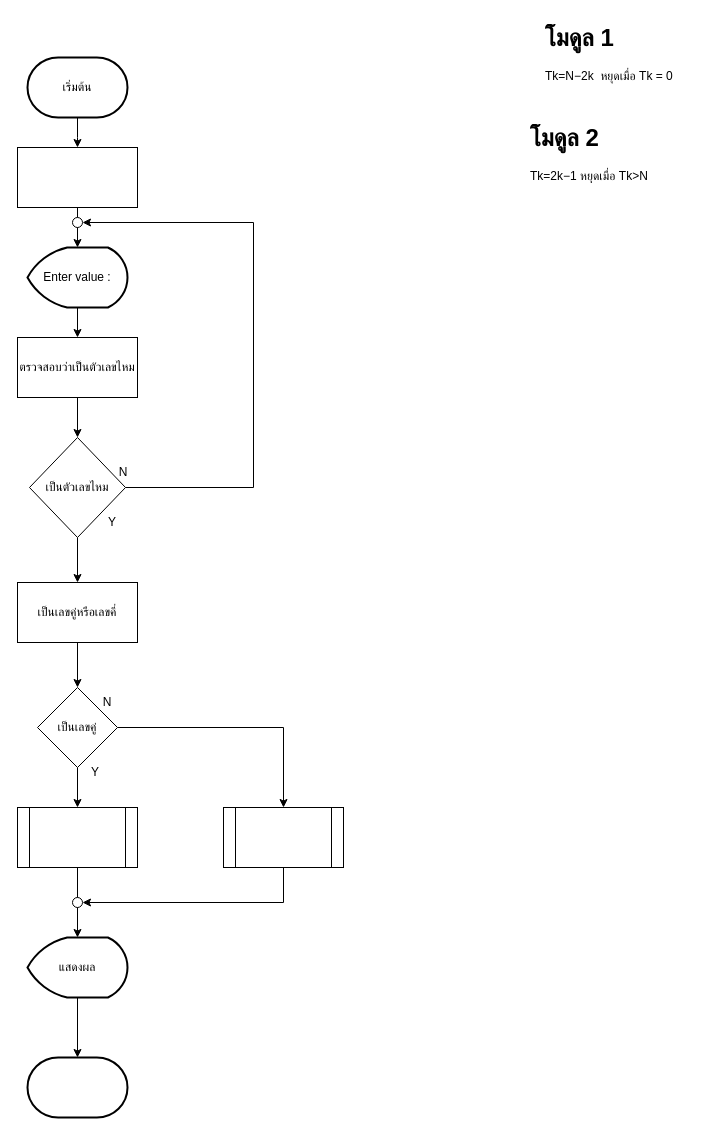
Some shapes in this 726 by 1135 pixel diagram are drawn without their labels. The shapes that lost their labels are listed below. From the top down, each one's centre as x and y in pixels, then its label:
point (77, 177): กำหนดค่า N รับค่าตัวเลขที่ผู้ใช้ใส่
point (77, 837): โมดูล 1
point (283, 837): โมดูล 2
point (77, 1087): จบการทำงาน
